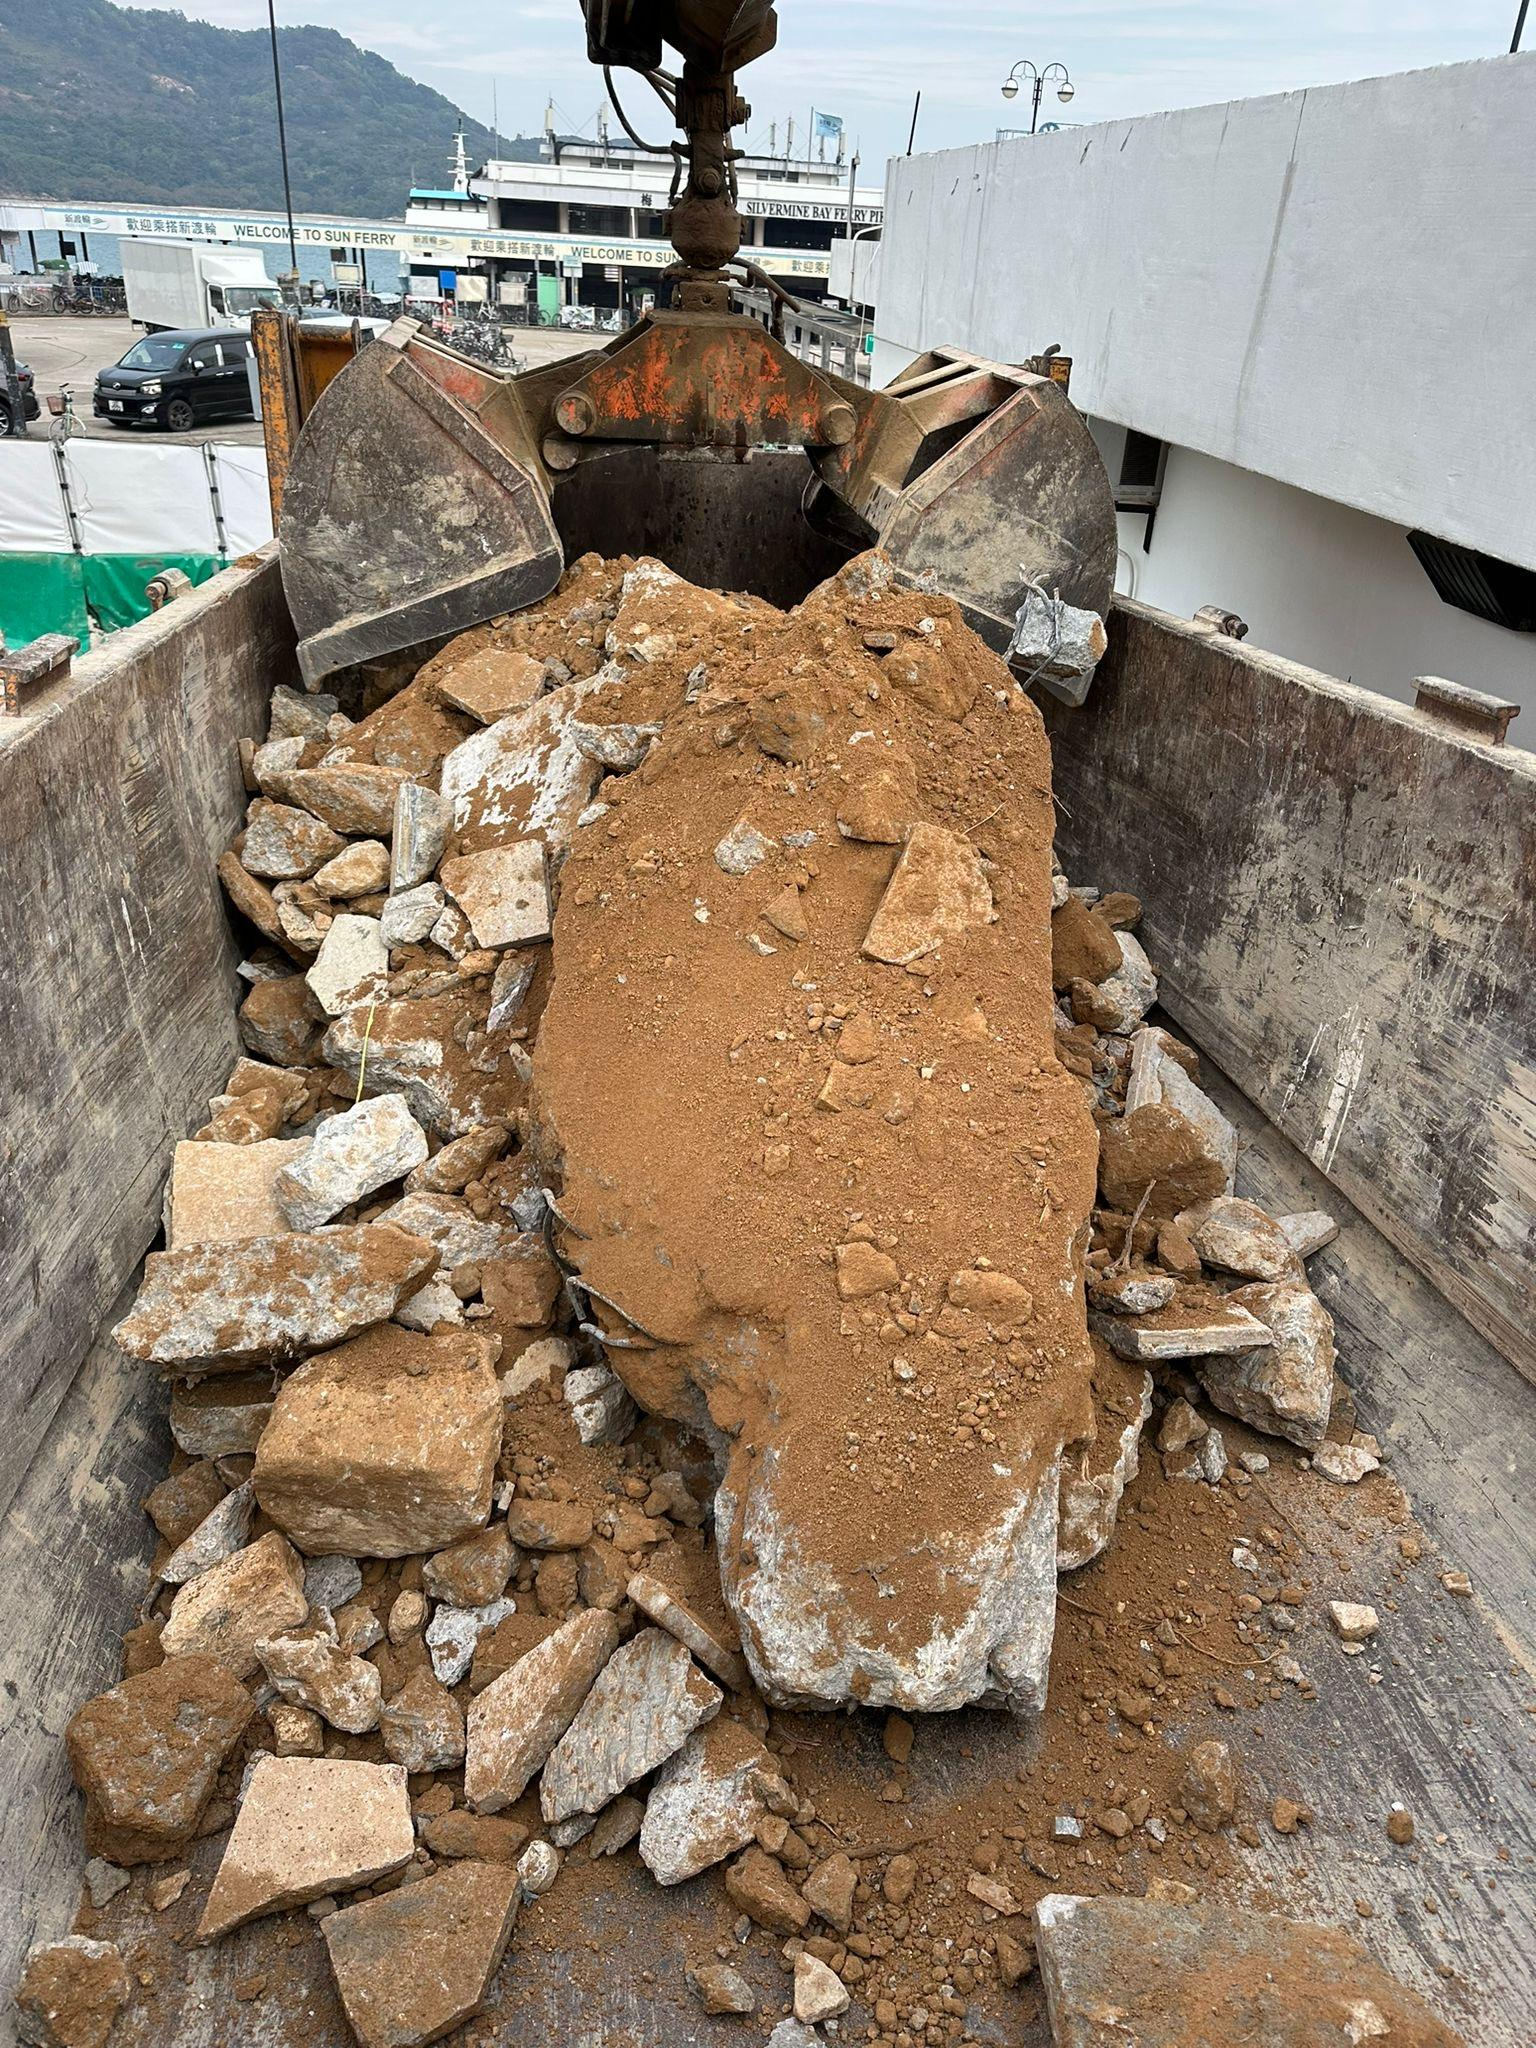dirt: (13, 547, 1530, 2045)
stone: (524, 548, 1105, 1717), (1033, 1888, 1463, 2045), (248, 1319, 507, 1558), (110, 1219, 442, 1372), (190, 1750, 416, 1943), (63, 1651, 258, 1866), (316, 1856, 524, 2045), (536, 1624, 724, 1822), (1196, 1277, 1338, 1447)
